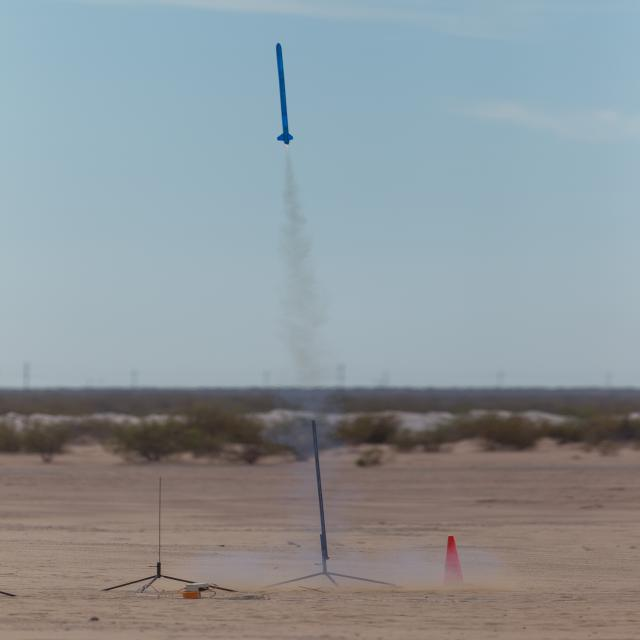Rocket: (275, 43, 294, 145)
